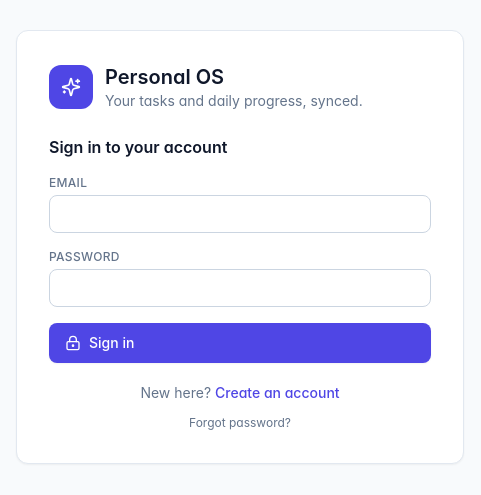
it: email authentication › creates an account and handles email confirmation
Click the button "Create an account".
click(277, 393)  # box [215,383,340,403]
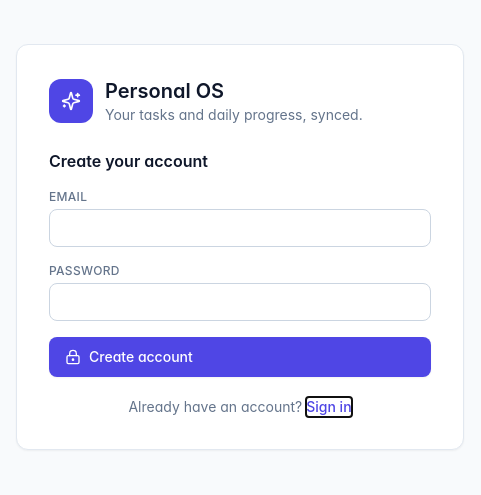
Type "person@example.com" into the field labelled "Email".
click(240, 228); type("person@example.com")  # box [49,209,431,247]
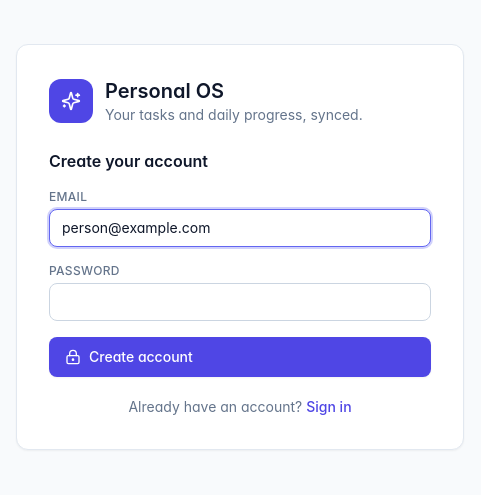
Type "correct-horse" into the password field labelled "Password".
click(240, 302); type("correct-horse")  # box [49,283,431,321]
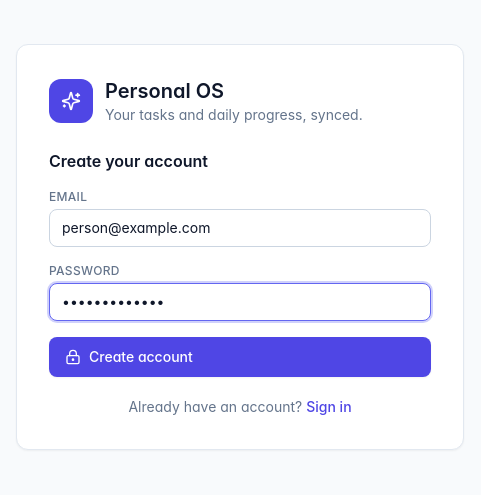
Click the button "Create account".
click(141, 356)  # box [49,337,431,377]
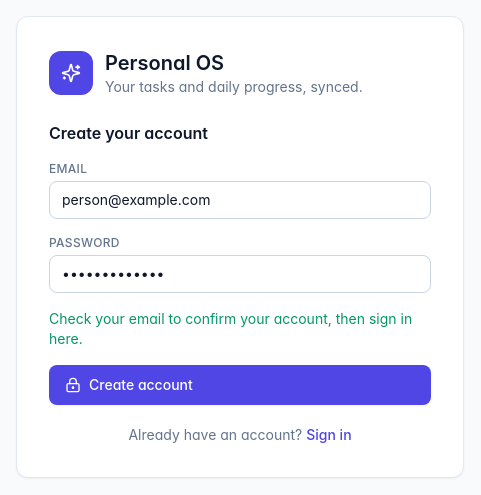
Result: the message shows "Check your email" at [49,310,412,347]
